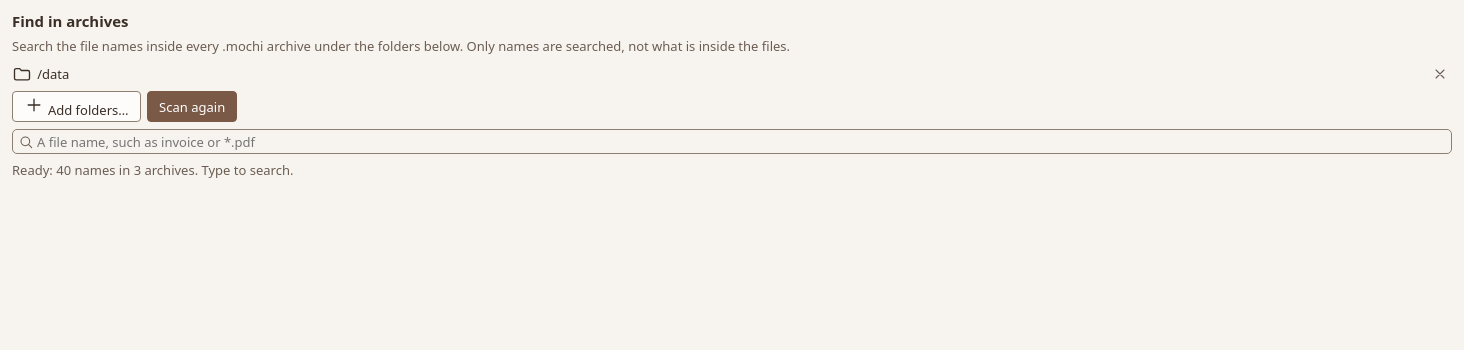
it: one archive that could not be searched, and the other reasons, are each said
Step 1. Type "x" into the search field with test id "find-query" → (732, 142), box [12,129,1452,154]
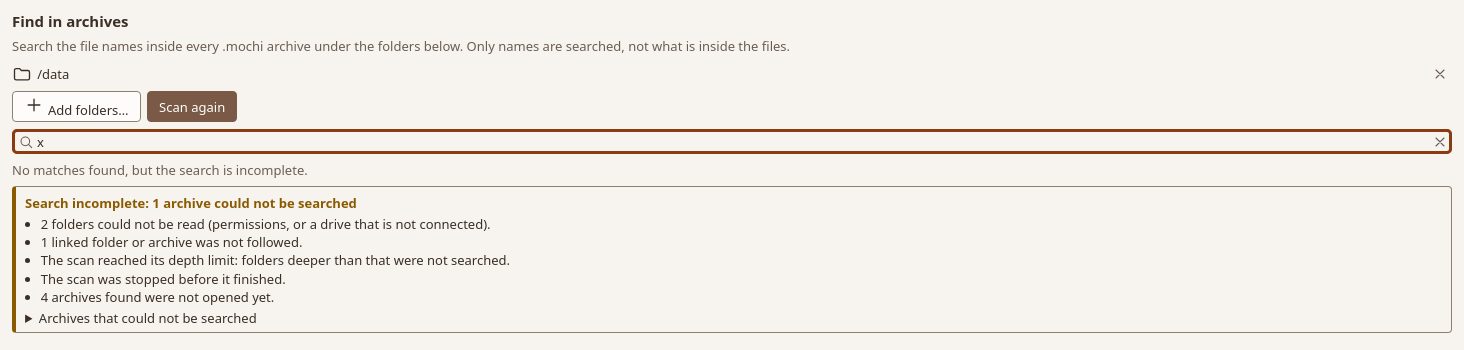
expect the text with test id "find-incomplete-head" reads "Search incomplete: 1 archive could not be searched": met, box [25,194,357,212]
expect the element with test id "find-incomplete" shows "2 folders could not be read": met, box [41,215,491,233]
expect the element with test id "find-incomplete" shows "1 linked folder or archive was not followed.": met, box [41,233,302,251]
